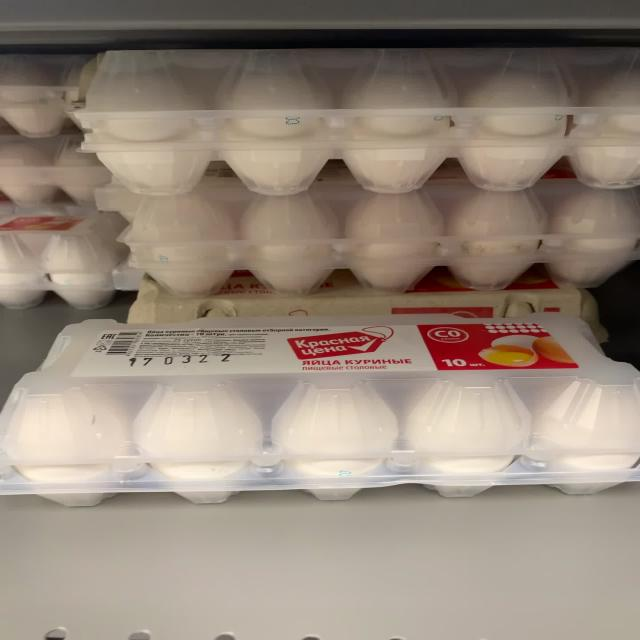egg box: (9, 321, 638, 482)
